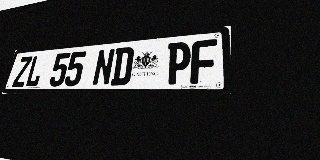5: (48, 52, 71, 87), (64, 51, 87, 86)
D: (110, 47, 135, 86)
F: (190, 39, 217, 84)
L: (24, 55, 46, 87)
N: (92, 48, 116, 86)
P: (165, 41, 191, 85)
Z: (12, 56, 33, 87)
